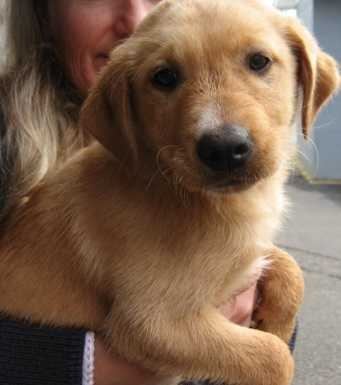Dog: (0, 0, 316, 381)
